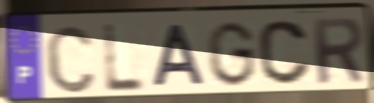A: (151, 22, 207, 90)
C: (43, 22, 98, 96), (257, 18, 314, 87)
G: (205, 19, 258, 89)
L: (102, 21, 148, 94)
R: (310, 15, 366, 87)
